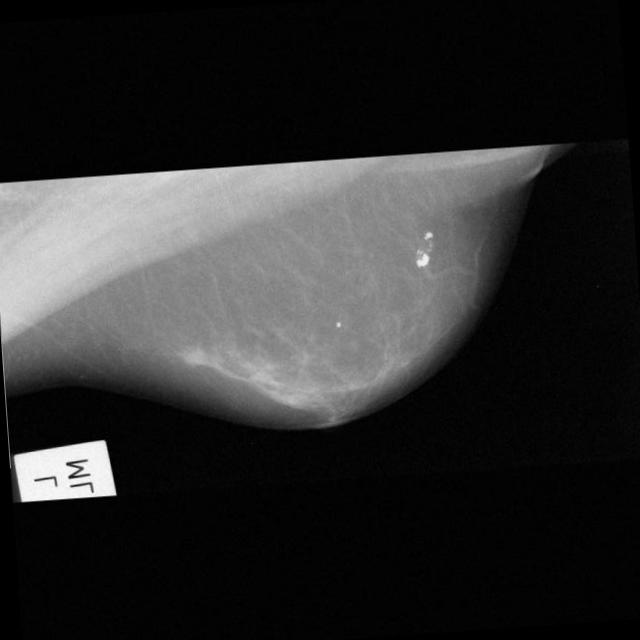ASYM: (179, 341, 209, 372)
